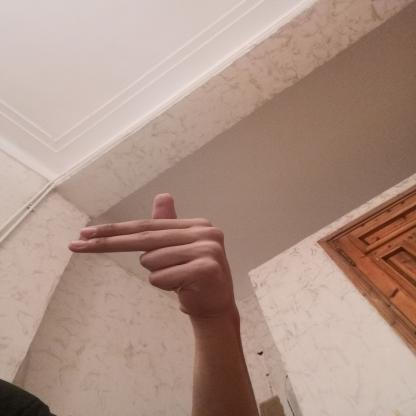GHAYN: (54, 186, 248, 325)
